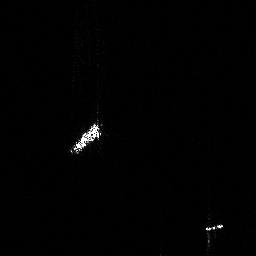ship: (65, 120, 103, 157), (202, 222, 225, 232)
